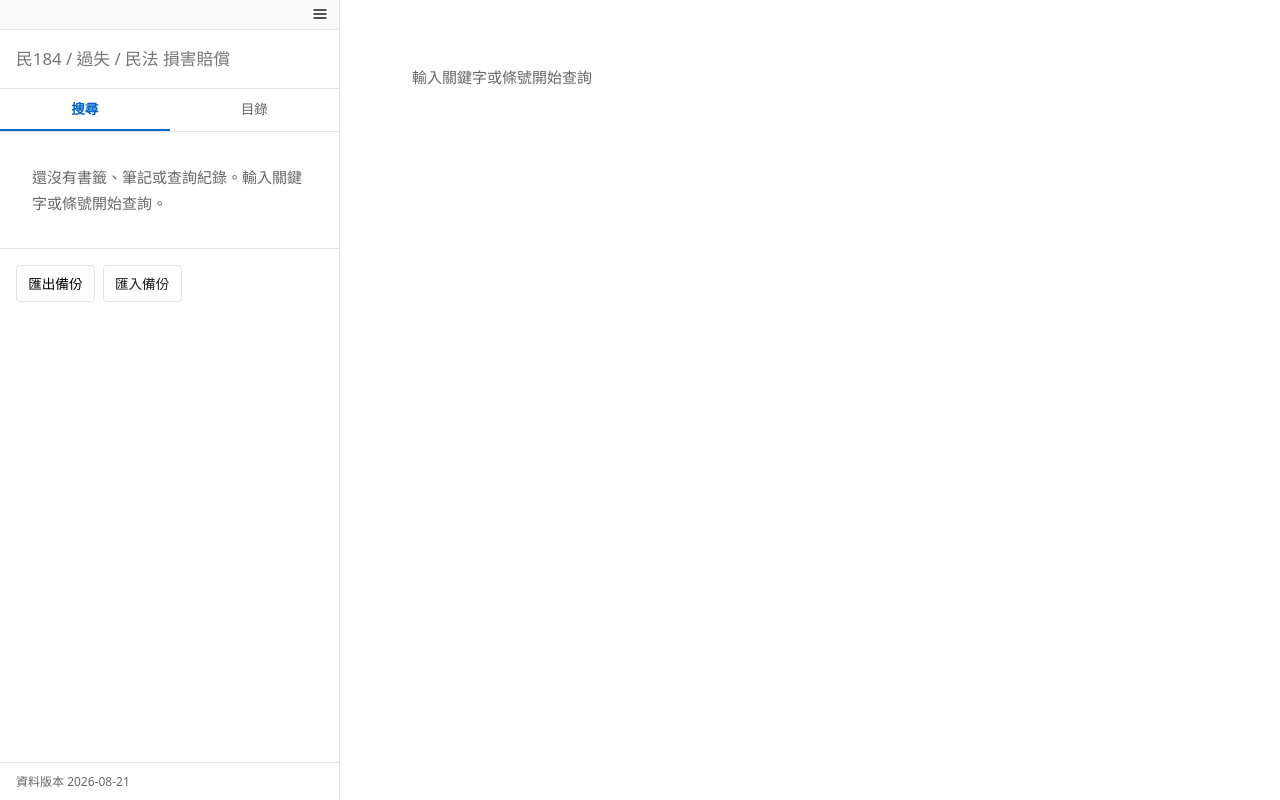
C-A:Enter 不替使用者決定脈絡法規 › 多部候選時按 Enter,下一個查詢仍列出全部候選,摘要不縮水
The image size is (1280, 800).
Step 1. Type "184" into the field named "搜尋法條" → x=170, y=59, box left=0, top=30, right=339, bottom=89
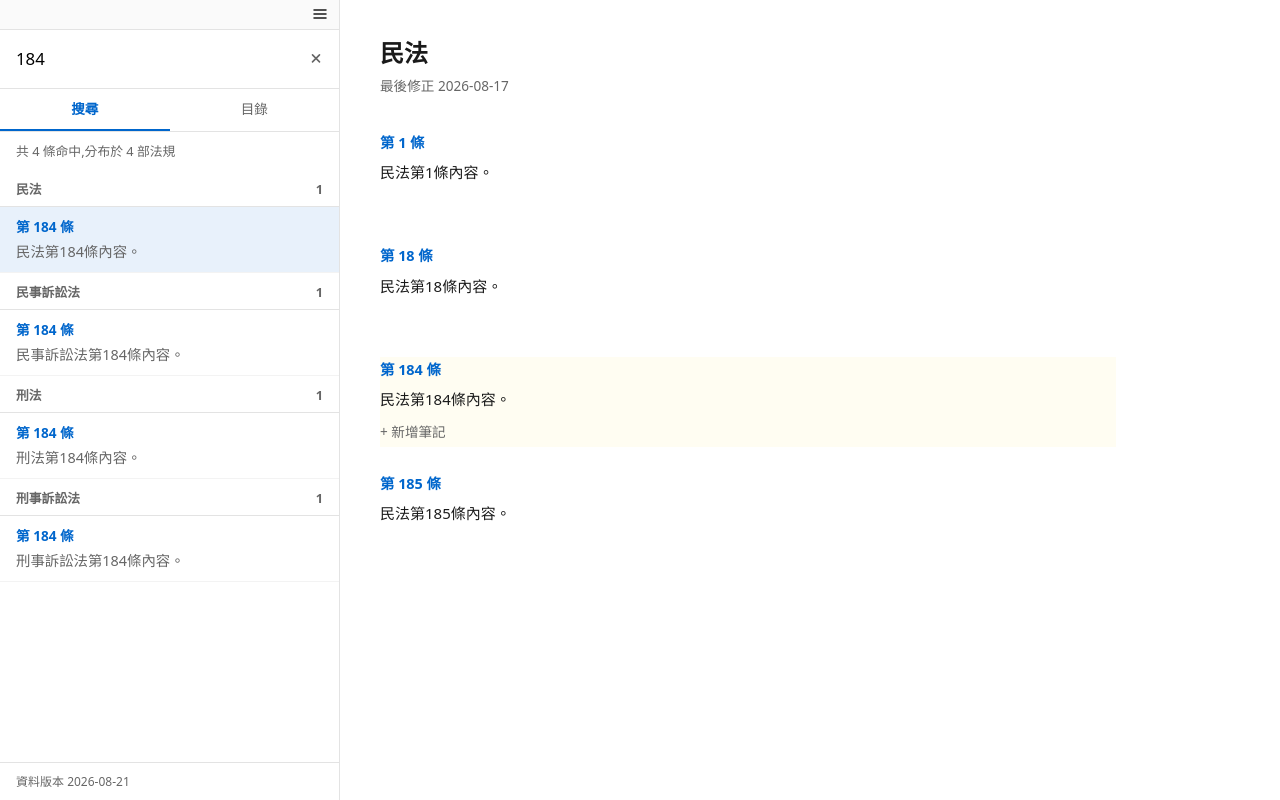
Expected: the number of options is 4, left=0, top=207, right=339, bottom=273; left=0, top=310, right=339, bottom=376; left=0, top=413, right=339, bottom=479; left=0, top=516, right=339, bottom=582
Step 2. Press Enter
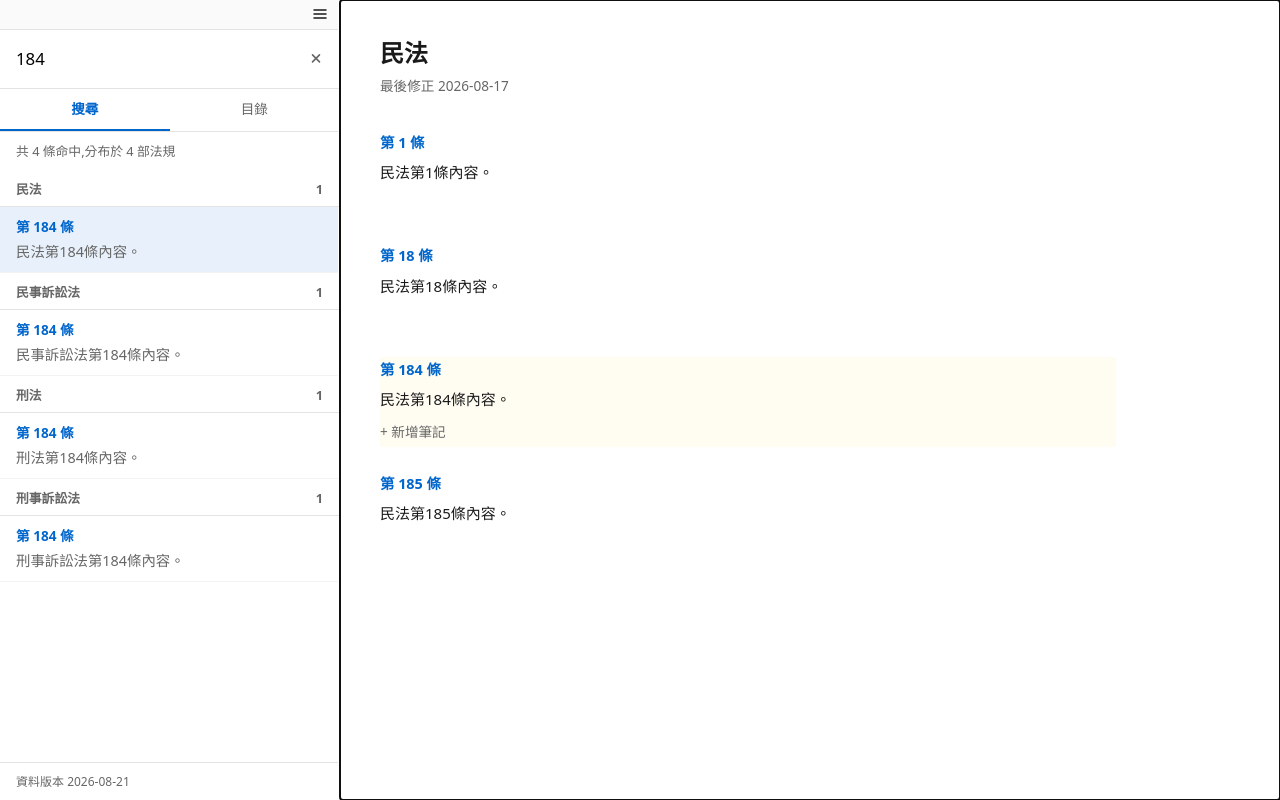
Step 3. Replace the text in the field named "搜尋法條" with "1" → x=170, y=59, box left=0, top=30, right=339, bottom=89
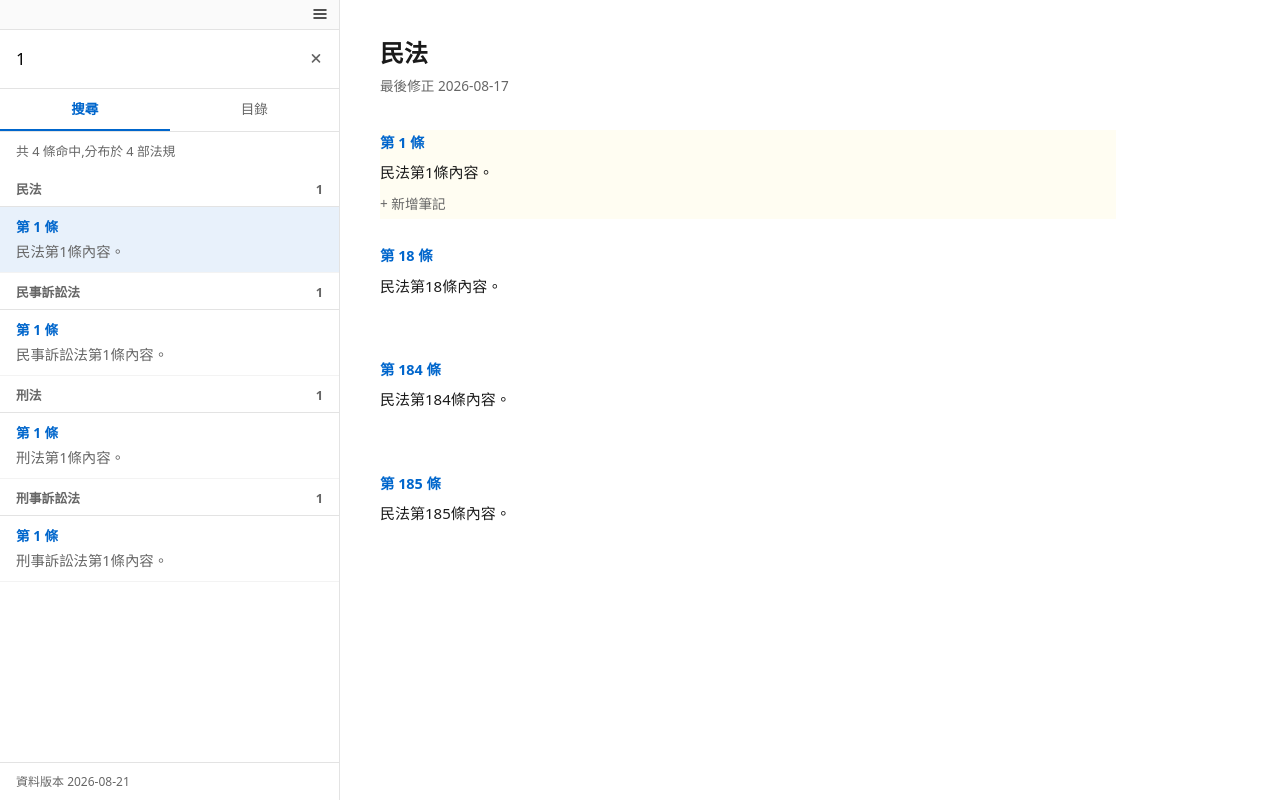
Expected: the text with class "summary" reads "共 4 條命中,分布於 4 部法規", left=16, top=142, right=175, bottom=160
Expected: the number of options is 4, left=0, top=207, right=339, bottom=273; left=0, top=310, right=339, bottom=376; left=0, top=413, right=339, bottom=479; left=0, top=516, right=339, bottom=582
